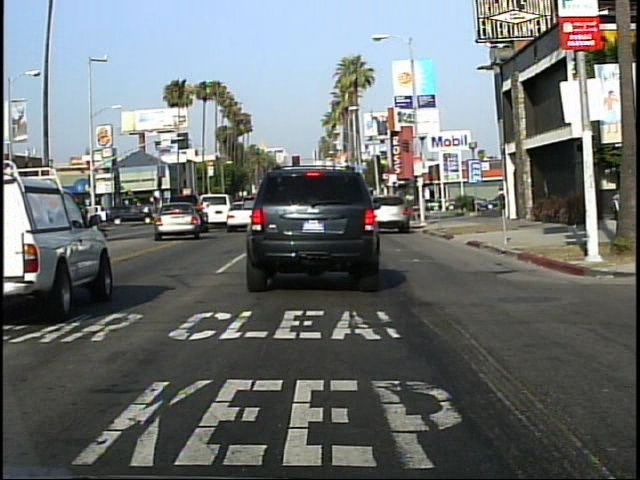car: (1, 156, 117, 314), (246, 175, 381, 294), (152, 203, 200, 241), (376, 193, 410, 230), (108, 202, 150, 222), (225, 201, 251, 229)
